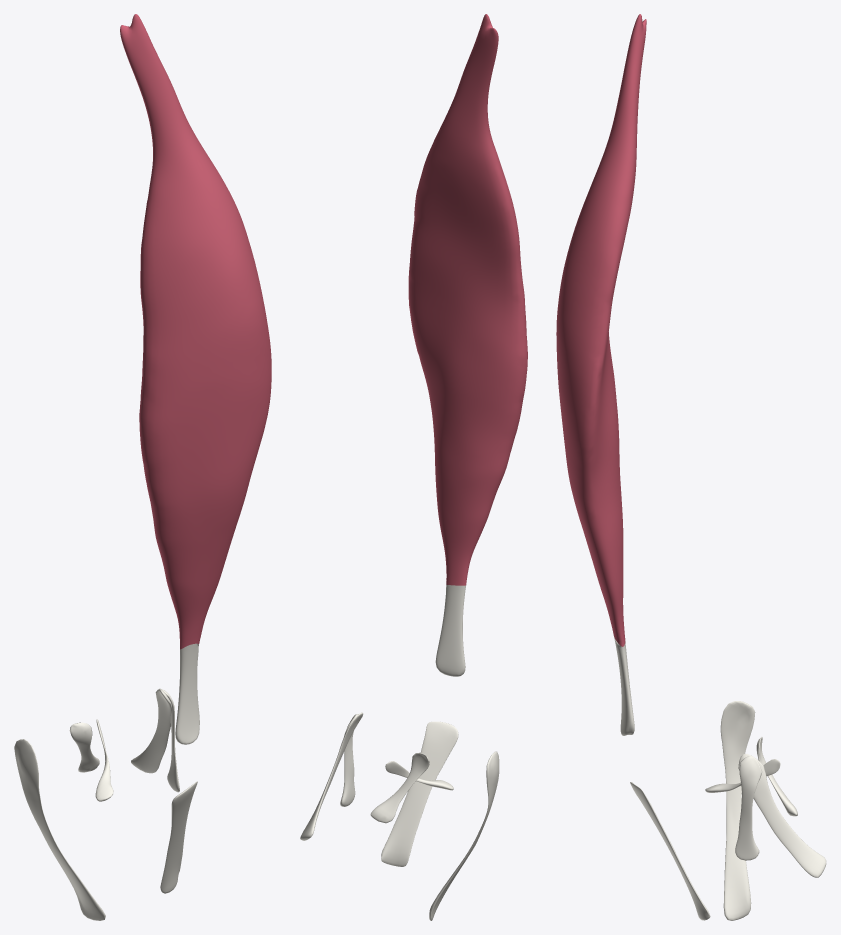
The model's file is 3d-vh-f-knee-l-landmark.glb.
3 views of the same model, side by side, from view 1: azimuth 30°, elevation 25°; view 2: azimuth 150°, elevation 25°; view 3: azimuth 270°, elevation 25° (orthographic). The views are drawn at different scales.
Visible parts, largest first — view 1: VH_F_knee_L_landmark_rectus_femoris, VH_F_knee_L_landmark_ligaments; view 2: VH_F_knee_L_landmark_rectus_femoris, VH_F_knee_L_landmark_ligaments; view 3: VH_F_knee_L_landmark_rectus_femoris, VH_F_knee_L_landmark_ligaments.
Part boxes in pixels (x1=…): VH_F_knee_L_landmark_rectus_femoris: x1=120, y1=14, x2=271, y2=744; VH_F_knee_L_landmark_ligaments: x1=14, y1=688, x2=197, y2=920; VH_F_knee_L_landmark_rectus_femoris: x1=408, y1=14, x2=527, y2=676; VH_F_knee_L_landmark_ligaments: x1=300, y1=712, x2=499, y2=920; VH_F_knee_L_landmark_rectus_femoris: x1=556, y1=14, x2=646, y2=735; VH_F_knee_L_landmark_ligaments: x1=630, y1=701, x2=826, y2=920.
Bounding box in the file's own units: 0.0994 × 0.5199 × 0.1411.
